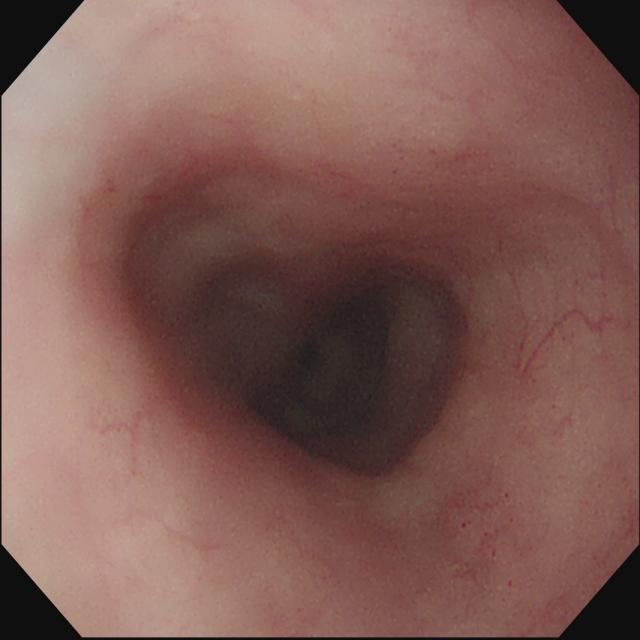A: (461, 492, 515, 591)
E: (256, 294, 395, 445)
